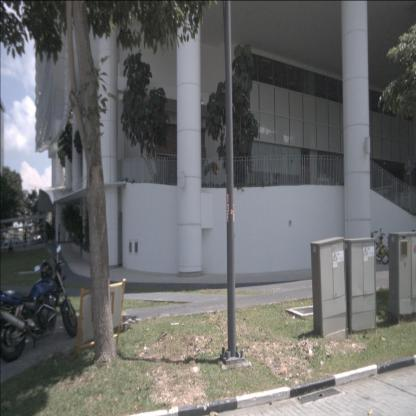human-pedestrian-adult: (68, 223, 73, 243), (24, 228, 29, 247), (8, 240, 14, 254), (58, 224, 61, 243)
vehicle-bicycle: (375, 228, 397, 262), (369, 231, 389, 265)
vehicle-car: (4, 236, 20, 248)
vehicle-motorcycle: (0, 244, 78, 362)
